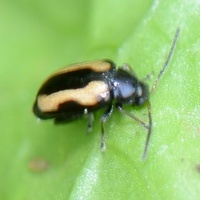insect: (33, 28, 179, 158)
